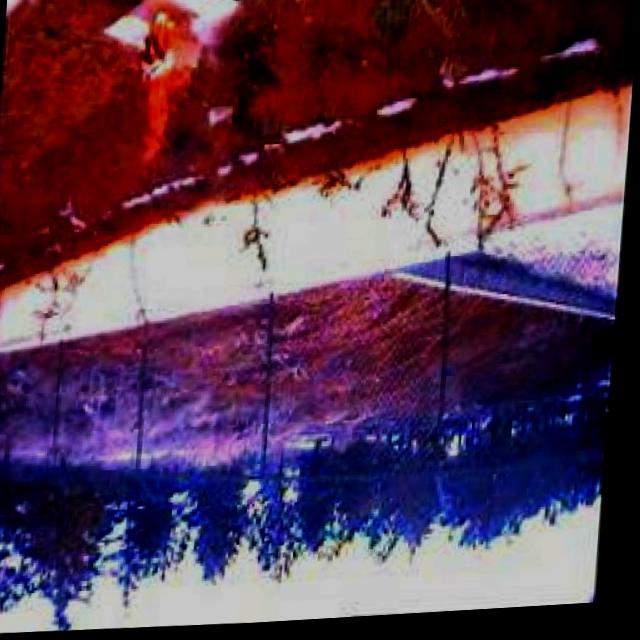Fire: (127, 2, 206, 171)
